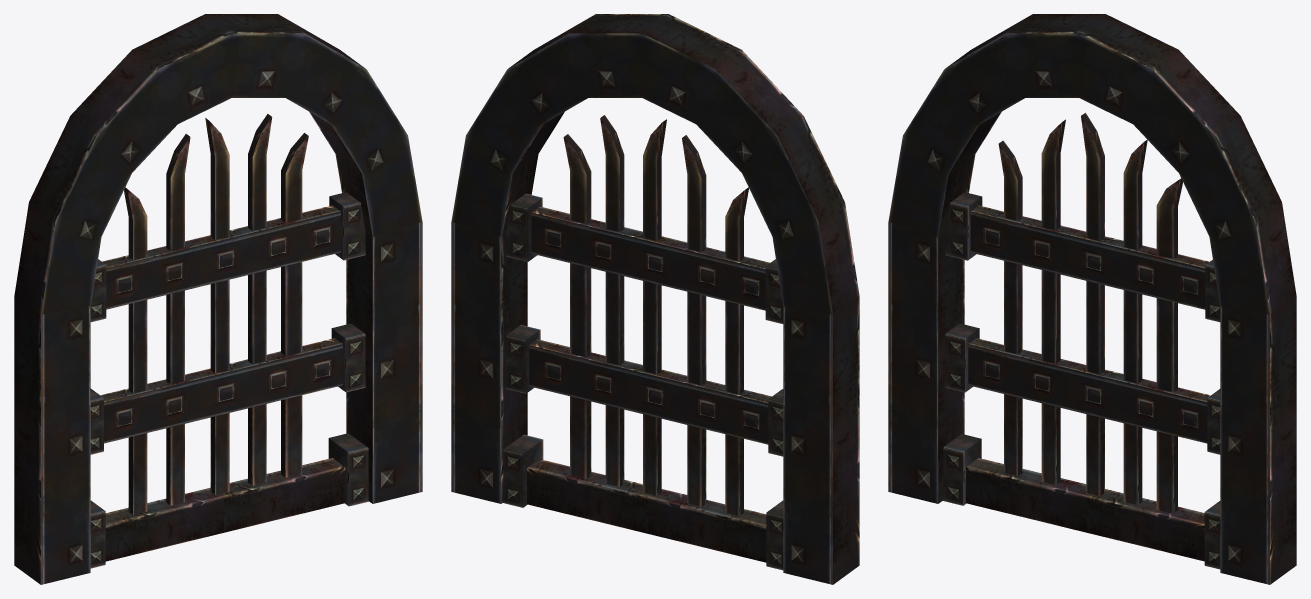
The model's file is B_men005.fbx.
3 views of the same model, side by side, from view 1: azimuth 30°, elevation 25°; view 2: azimuth 150°, elevation 25°; view 3: azimuth 330°, elevation 25° (orthographic).
Visible parts, largest first — view 1: B_men005; view 2: B_men005; view 3: B_men005.
Boxes of the visible parts, x1,y1,x2,y2 form: B_men005: (14,14,422,584); B_men005: (451,14,859,584); B_men005: (888,14,1296,584).
Size of the model in its own units: 245 by 310 by 29.44.
